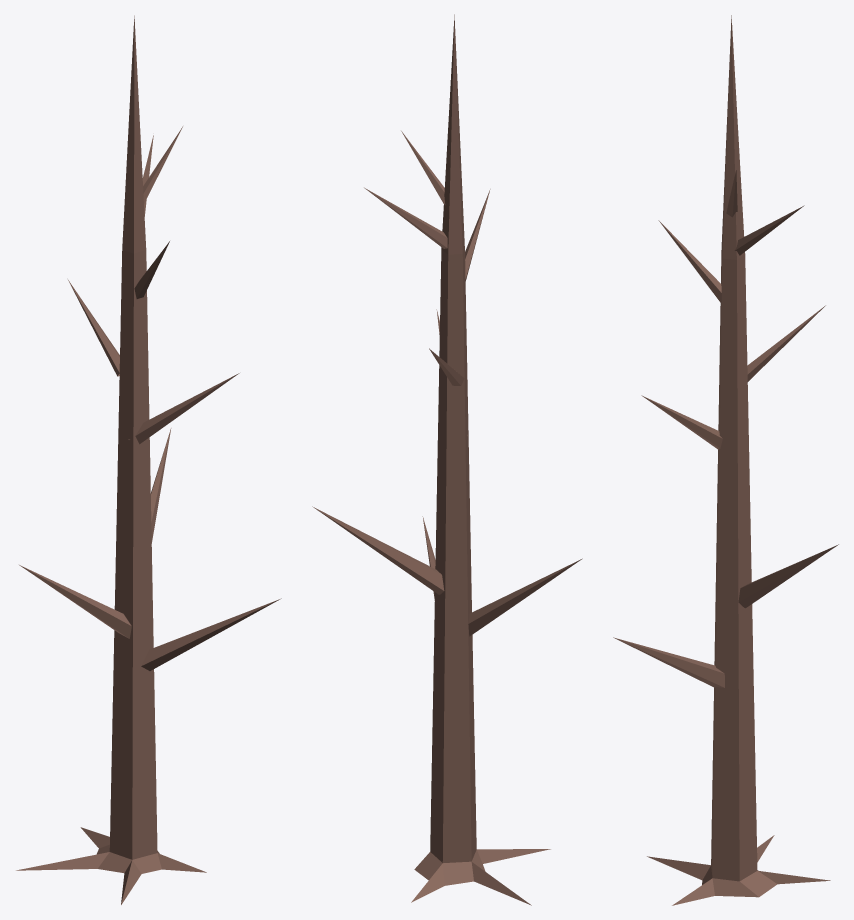
Rendered from Arvore_morta.fbx.
The picture shows the model from 3 angles, left to right: view 1: azimuth 30°, elevation 25°; view 2: azimuth 150°, elevation 25°; view 3: azimuth 270°, elevation 25°; orthographic projection. The views are drawn at different scales.
Visible parts, largest first — view 1: tree-dead; view 2: tree-dead; view 3: tree-dead.
Boxes of the visible parts, x1=… form: tree-dead: x1=16, y1=15, x2=281, y2=904; tree-dead: x1=312, y1=14, x2=582, y2=905; tree-dead: x1=613, y1=15, x2=838, y2=905.
Bounding box in the file's own units: 207 × 788 × 187.
